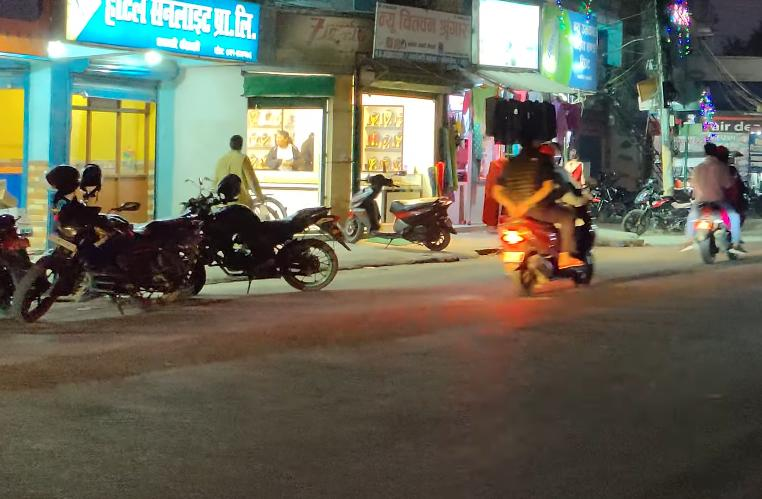bike: (2, 167, 194, 329), (166, 184, 346, 302)
